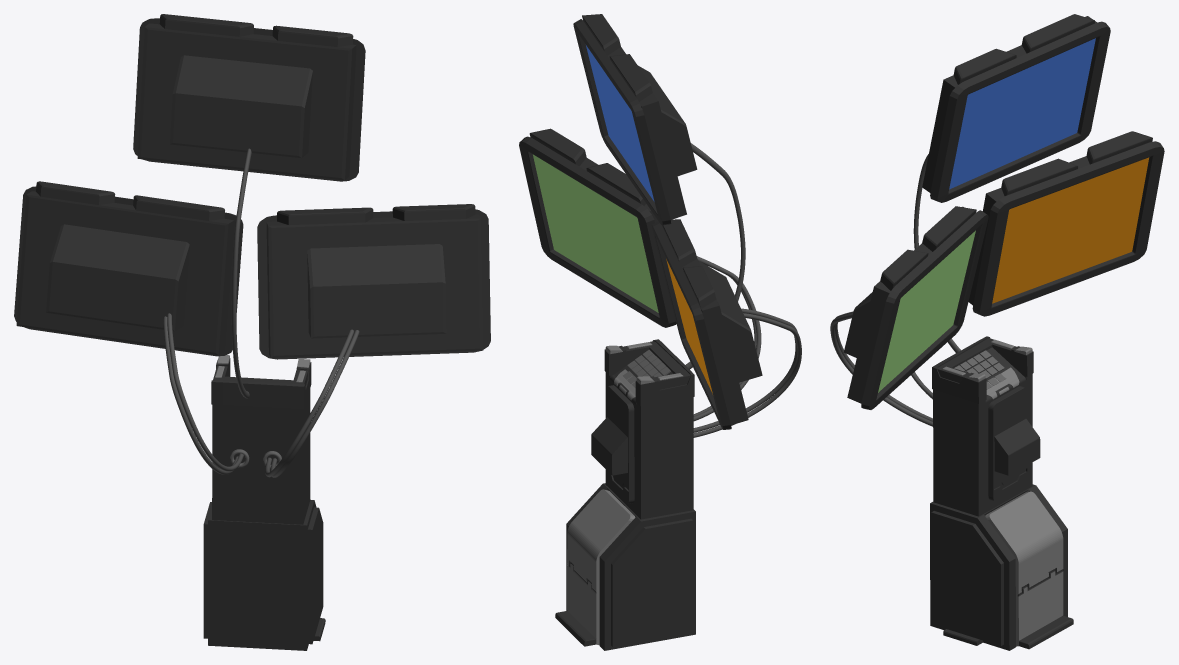
File: Sci-fi monitor.fbx
The picture shows the model from 3 angles, left to right: view 1: azimuth 30°, elevation 25°; view 2: azimuth 150°, elevation 25°; view 3: azimuth 270°, elevation 25°; orthographic projection. The views are drawn at different scales.
Parts seen in each view (by area): view 1: Computer, 1stLevel, 3rdLevel, 2ndLevel; view 2: Computer, 1stLevel, 3rdLevel, 2ndLevel; view 3: Computer, 2ndLevel, 3rdLevel, 1stLevel.
Part boxes in pixels (bbox=[...]): Computer: bbox=[163, 148, 359, 650]; 1stLevel: bbox=[257, 204, 490, 359]; 3rdLevel: bbox=[133, 14, 365, 181]; 2ndLevel: bbox=[14, 181, 243, 356]; Computer: bbox=[555, 143, 801, 650]; 1stLevel: bbox=[519, 128, 676, 327]; 3rdLevel: bbox=[573, 14, 697, 225]; 2ndLevel: bbox=[651, 219, 762, 429]; Computer: bbox=[830, 154, 1073, 650]; 2ndLevel: bbox=[968, 131, 1164, 316]; 3rdLevel: bbox=[922, 14, 1110, 202]; 1stLevel: bbox=[843, 206, 988, 409].
Size of the model in its own units: 577 by 931 by 486.
